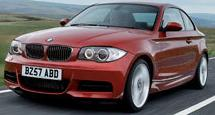front_view: (4, 37, 132, 99)
headlight: (77, 43, 130, 64)
side_glass: (159, 7, 197, 32)
